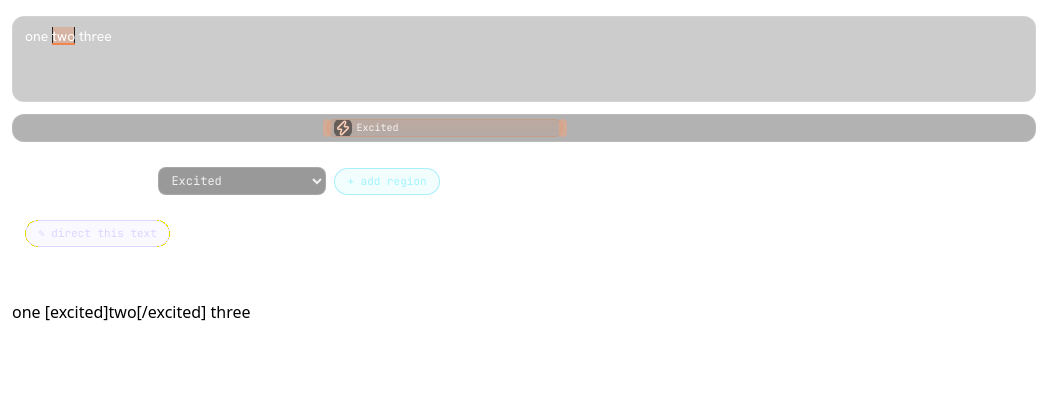
it: ScoreEditor — the tagged string, seen and edited › retags a region without moving it
Click the button with aria-label "Region 1 of 1": (445, 128) [328,119,563,137]
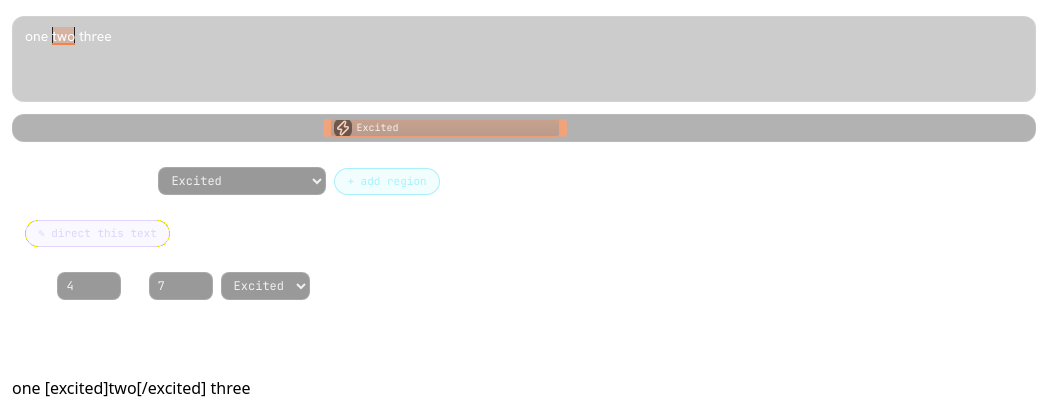
Select "Whisper" in the dropdown named "Region emotion": (265, 286) [221,272,310,300]
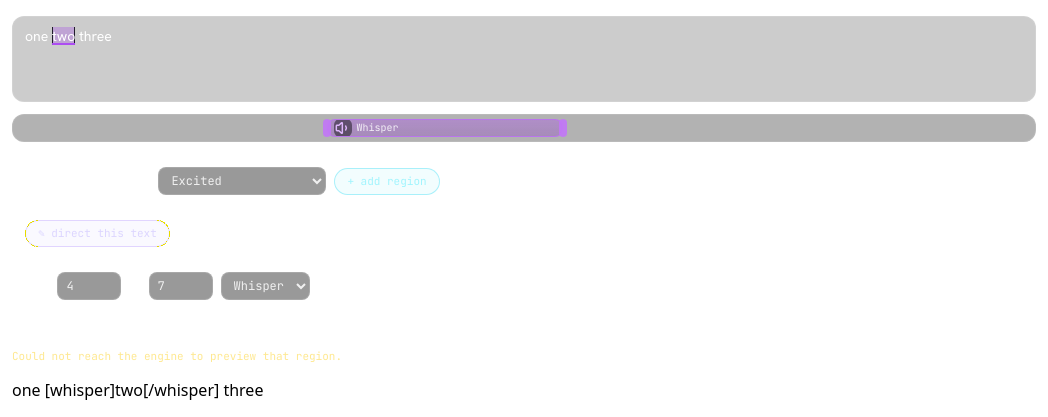
Check: the text with test id "wire" reads "one [whisper]two[/whisper] three", box [12,379,263,401]
